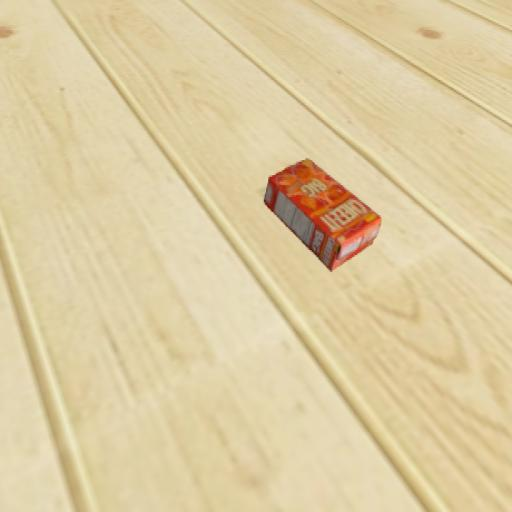BOX_R: (248, 120, 410, 314)
